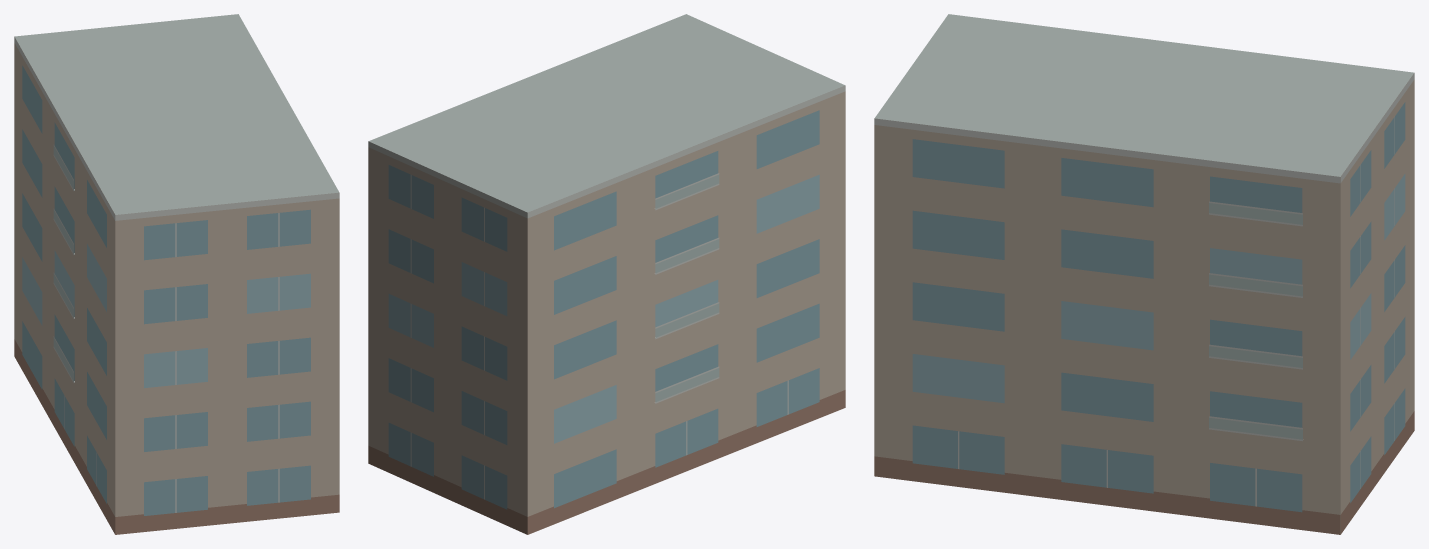
Rendered from survey-upis-32874212.glb.
The picture shows the model from 3 angles, left to right: view 1: azimuth 30°, elevation 25°; view 2: azimuth 150°, elevation 25°; view 3: azimuth 270°, elevation 25°; orthographic projection. The views are drawn at different scales.
Visible parts, largest first — view 1: survey-upis-32874212.tmp; view 2: survey-upis-32874212.tmp; view 3: survey-upis-32874212.tmp.
Part boxes in pixels (box(x1,y1,x2,y2)): survey-upis-32874212.tmp: box(14, 14, 339, 534); survey-upis-32874212.tmp: box(368, 14, 845, 534); survey-upis-32874212.tmp: box(874, 14, 1414, 534).
Size of the model in its own units: 13.09 by 13.4 by 18.34.
